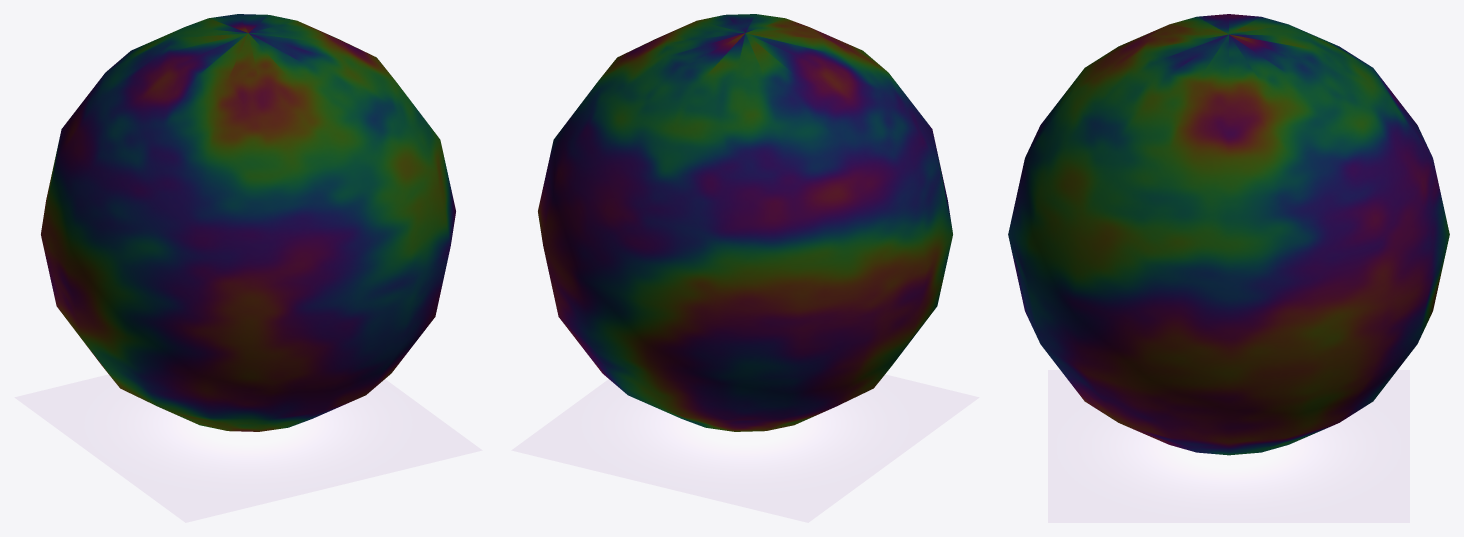
The model's file is level.gltf.
The picture shows the model from 3 angles, left to right: view 1: azimuth 30°, elevation 25°; view 2: azimuth 150°, elevation 25°; view 3: azimuth 270°, elevation 25°; orthographic projection. The views are drawn at different scales.
Visible parts, largest first — view 1: P_Extra_Life_Sphere, P_Extra_Life_Shadow; view 2: P_Extra_Life_Sphere, P_Extra_Life_Shadow; view 3: P_Extra_Life_Sphere, P_Extra_Life_Shadow.
Part boxes in pixels (x1,y1,x2,y2): P_Extra_Life_Sphere: (41, 14, 455, 431); P_Extra_Life_Shadow: (15, 375, 480, 522); P_Extra_Life_Sphere: (538, 14, 952, 431); P_Extra_Life_Shadow: (513, 375, 978, 522); P_Extra_Life_Sphere: (1008, 14, 1449, 455); P_Extra_Life_Shadow: (1048, 370, 1409, 522).
Bounding box in the file's own units: 4 × 4.12 × 4.
Materials: 3 (3 with a texture image).
